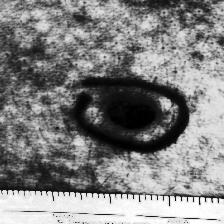Benign Marking or Mole: (103, 100, 160, 130)
